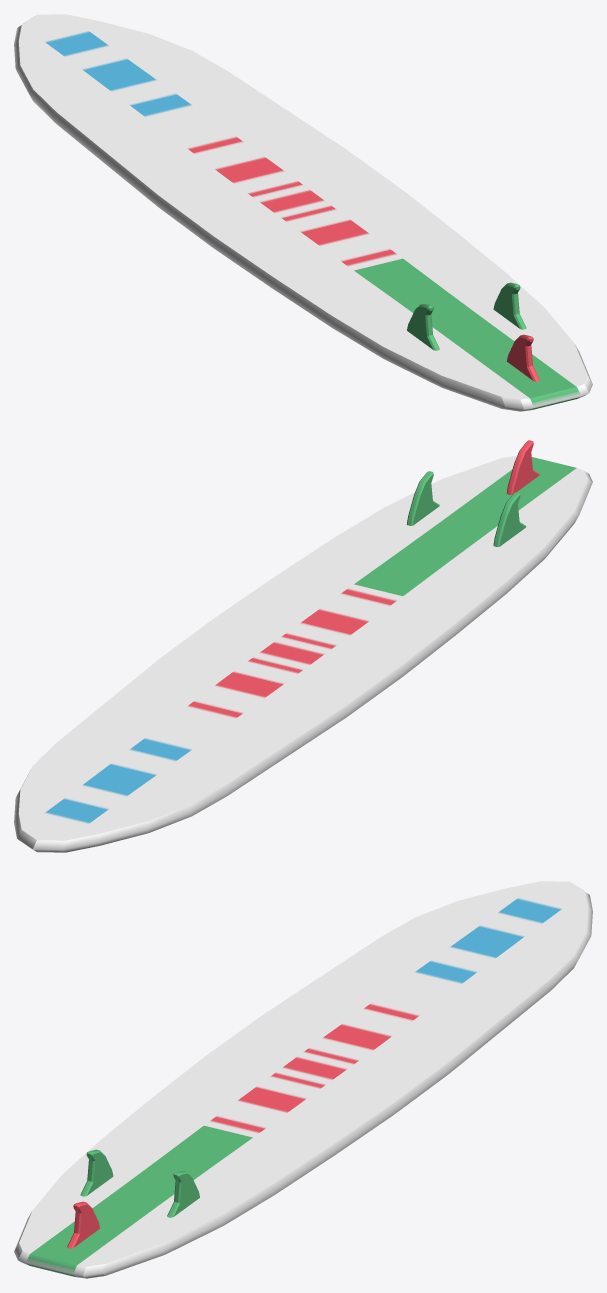
The model's file is surfboard-3.fbx.
The picture shows the model from 3 angles, top to bottom: view 1: azimuth 30°, elevation 25°; view 2: azimuth 150°, elevation 25°; view 3: azimuth 330°, elevation 25°; orthographic projection.
Parts seen in each view (by area): view 1: pCube7; view 2: pCube7; view 3: pCube7.
Part boxes in pixels (<box>): pCube7: <box>14,14,592,411</box>; pCube7: <box>14,440,592,852</box>; pCube7: <box>14,881,592,1278</box>.
Bounding box in the file's own units: 9.89 × 2.48 × 46.66.
Materials: 1 (1 with a texture image).
